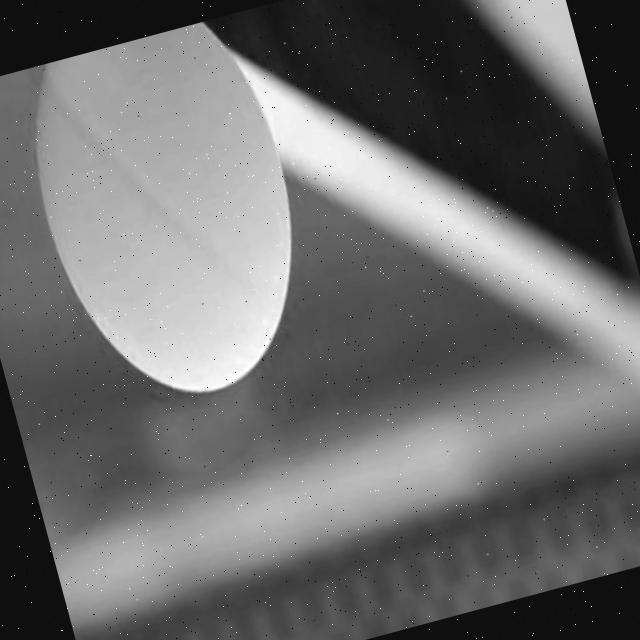ping-pong-ball: (3, 9, 338, 428)
